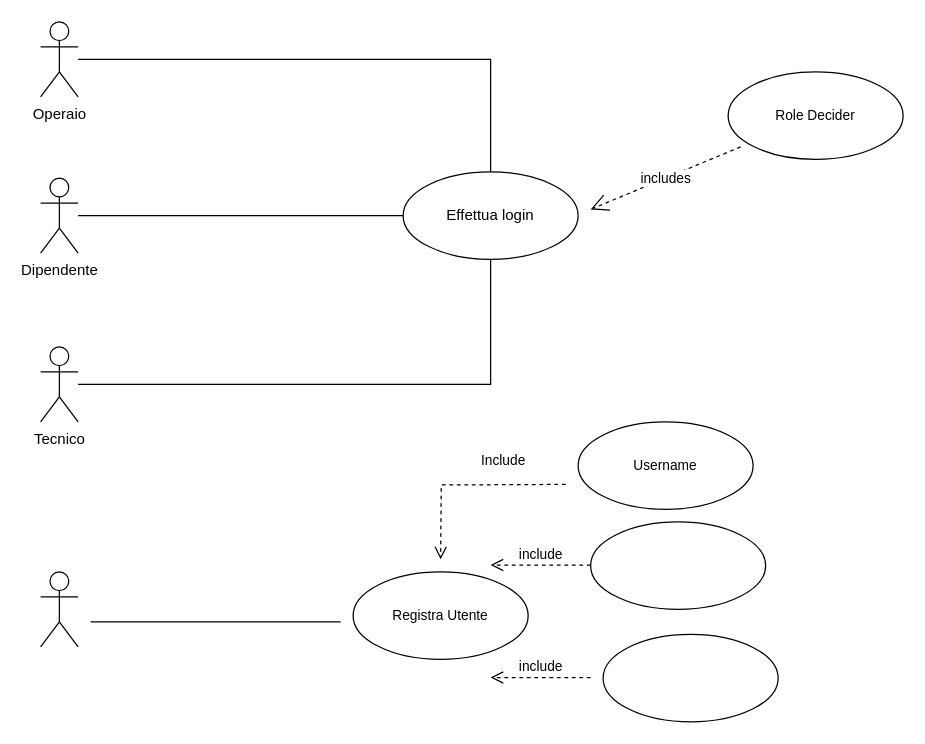
The diagram is 925 pixels wide and 744 high, and some of its shapes have lost their labels. Here are the shapes that lost their labels. From the top down, the box of each, then its label:
(589, 521, 766, 609): Password
(39, 571, 78, 647): ADMIN
(602, 633, 778, 722): Role
